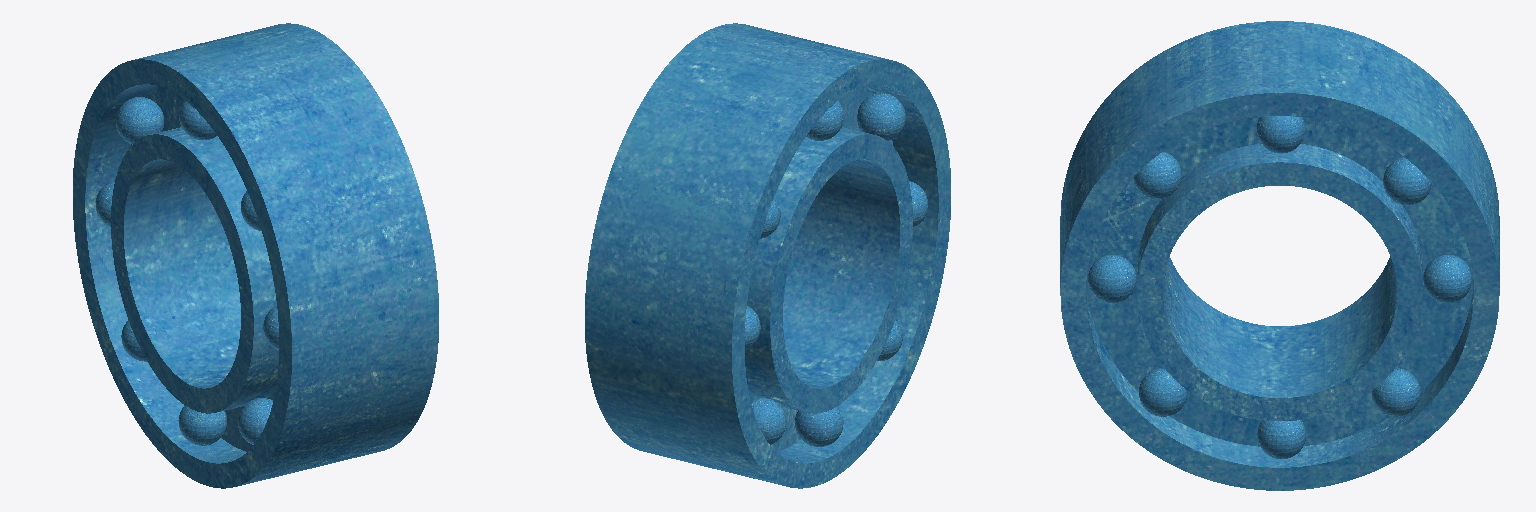
3 renders of one model, left to right at view 1: azimuth 30°, elevation 25°; view 2: azimuth 150°, elevation 25°; view 3: azimuth 270°, elevation 25°, orthographic.
Parts seen in each view (by area): view 1: Cylinder.035_Cylinder.033; view 2: Cylinder.035_Cylinder.033; view 3: Cylinder.035_Cylinder.033.
Boxes of the visible parts, x1,y1,x2,y2 form: Cylinder.035_Cylinder.033: [73, 23, 438, 488]; Cylinder.035_Cylinder.033: [585, 23, 950, 488]; Cylinder.035_Cylinder.033: [1060, 21, 1499, 490].
Bounding box in the file's own units: 0.012 × 0.0309 × 0.0309.
Materials: 1 (1 with a texture image).